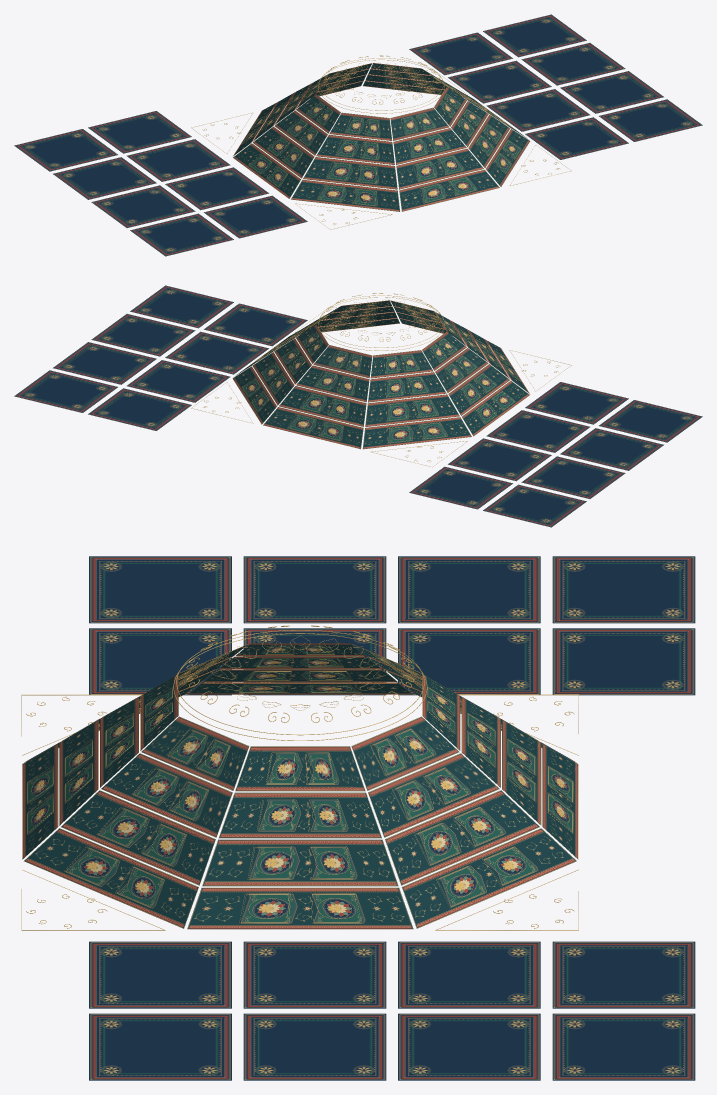
Rendered from caisson-vines.glb.
The picture shows the model from 3 angles, top to bottom: view 1: azimuth 30°, elevation 25°; view 2: azimuth 150°, elevation 25°; view 3: azimuth 270°, elevation 25°; orthographic projection. The views are drawn at different scales.
Parts seen in each view (by area): view 1: Caisson enrichment | Caisson | painted square borders, Caisson enrichment | Caisson | mineral polychrome coffers, Caisson enrichment | Sanctuary | hand burnished gold; view 2: Caisson enrichment | Caisson | painted square borders, Caisson enrichment | Caisson | mineral polychrome coffers, Caisson enrichment | Sanctuary | hand burnished gold; view 3: Caisson enrichment | Caisson | painted square borders, Caisson enrichment | Caisson | mineral polychrome coffers, Caisson enrichment | Sanctuary | hand burnished gold.
Boxes of the visible parts, x1,y1,x2,y2 form: Caisson enrichment | Caisson | painted square borders: (14, 14, 702, 256); Caisson enrichment | Caisson | mineral polychrome coffers: (233, 63, 530, 211); Caisson enrichment | Sanctuary | hand burnished gold: (191, 55, 571, 229); Caisson enrichment | Caisson | painted square borders: (14, 285, 702, 527); Caisson enrichment | Caisson | mineral polychrome coffers: (232, 300, 529, 449); Caisson enrichment | Sanctuary | hand burnished gold: (191, 293, 571, 467); Caisson enrichment | Caisson | painted square borders: (89, 556, 695, 1080); Caisson enrichment | Caisson | mineral polychrome coffers: (22, 643, 578, 929); Caisson enrichment | Sanctuary | hand burnished gold: (21, 625, 578, 930).
Bounding box in the file's own units: 10.21 × 1.35 × 5.54.
3 materials, 3 textured.
